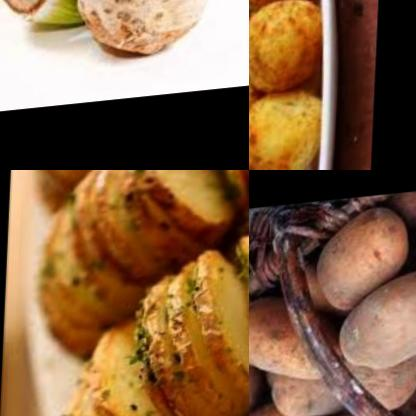celery: (0, 0, 249, 43)
potato: (29, 170, 249, 362), (59, 230, 249, 416), (249, 0, 317, 170), (29, 170, 249, 222), (318, 211, 415, 324), (249, 296, 344, 398), (334, 266, 416, 381), (342, 351, 416, 416)
